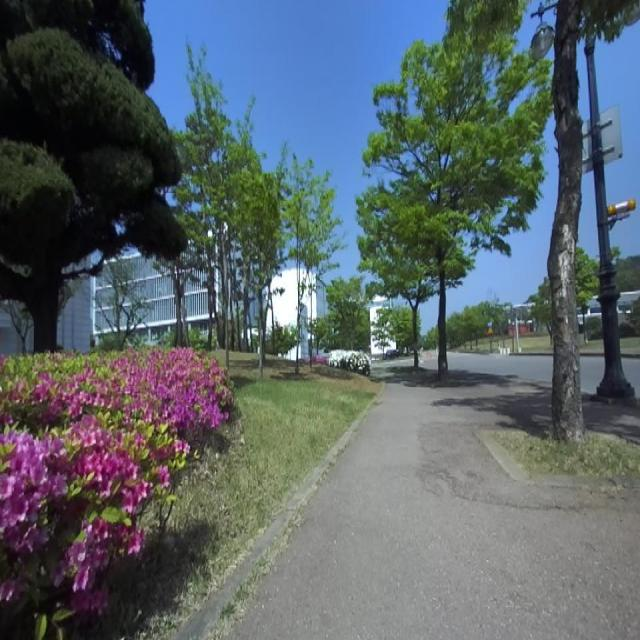sidewalk: (216, 354, 640, 640)
